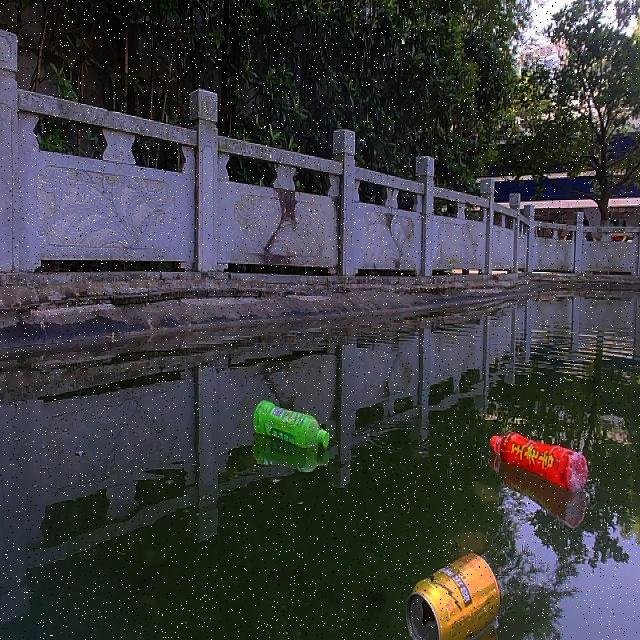Bottle: (484, 421, 591, 492), (249, 392, 331, 449)
Can: (402, 549, 503, 639)
